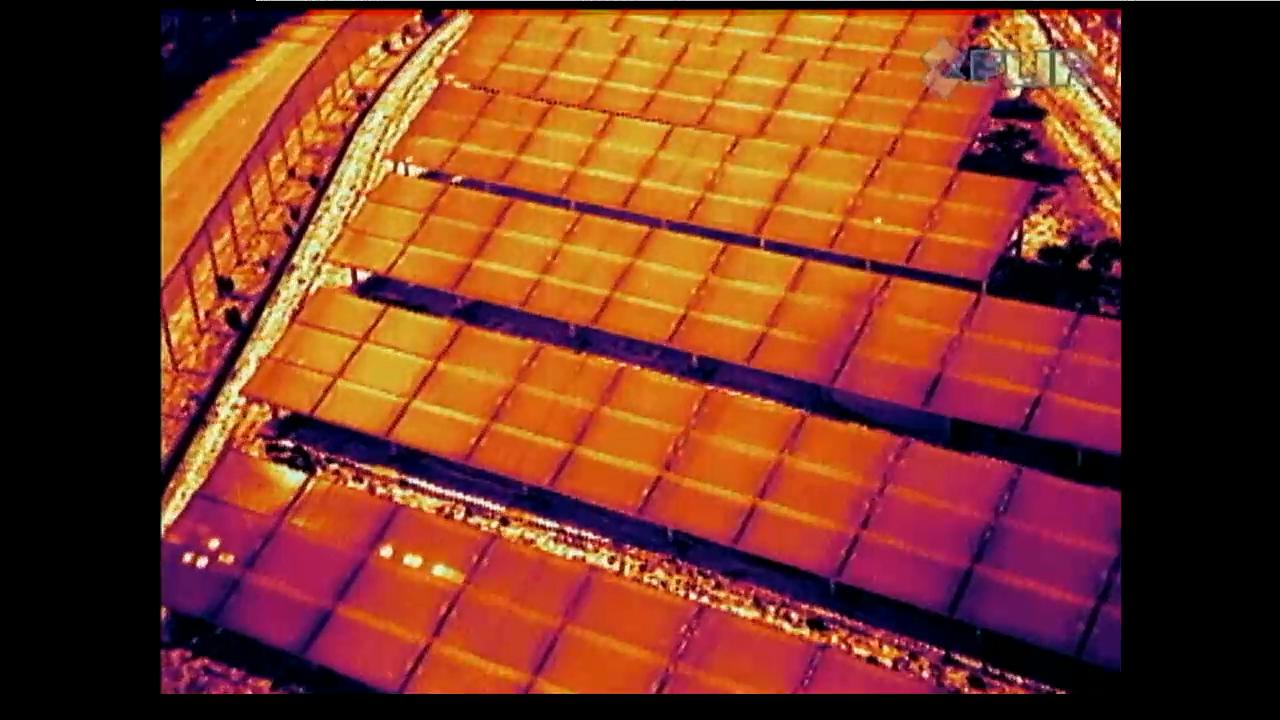hotspot: (297, 506, 489, 692), (162, 449, 305, 633), (827, 156, 957, 268)
